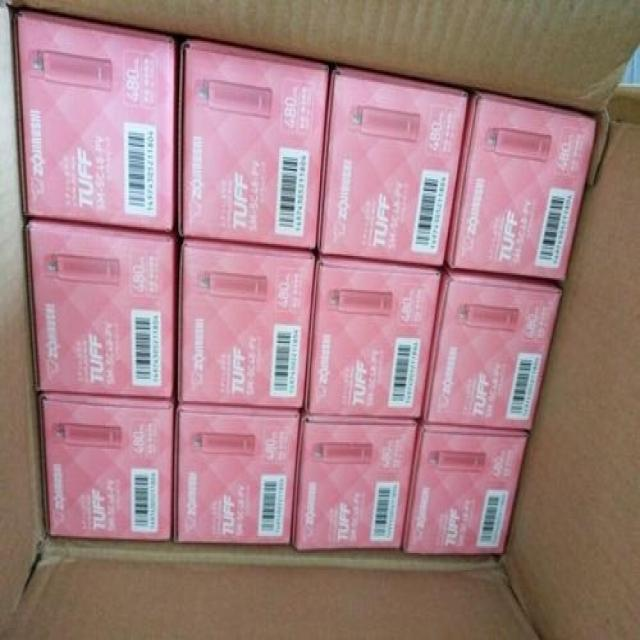box: (13, 10, 176, 232), (178, 40, 330, 250), (317, 66, 470, 267), (445, 90, 596, 281), (26, 219, 179, 400), (423, 260, 563, 431), (178, 239, 315, 409), (304, 253, 442, 420), (38, 391, 175, 540), (291, 406, 417, 550), (174, 403, 300, 545), (402, 415, 529, 555)
